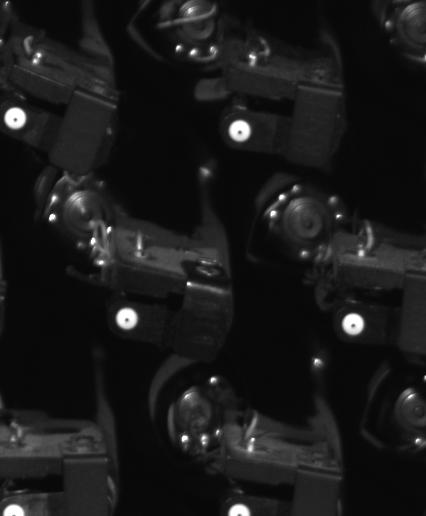fiber: (1, 98, 33, 143), (110, 298, 143, 340), (335, 306, 372, 343), (222, 113, 258, 149), (1, 496, 30, 516), (221, 500, 254, 516)
